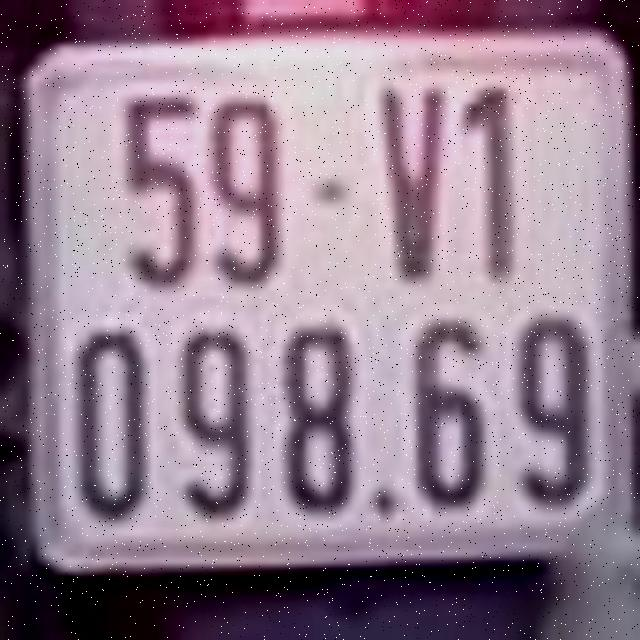0: (68, 317, 152, 522)
1: (458, 78, 525, 282)
5: (118, 88, 201, 289)
6: (411, 308, 490, 508)
8: (281, 314, 357, 515)
9: (512, 303, 596, 511), (178, 321, 252, 519), (209, 90, 283, 287)
V: (376, 73, 451, 284)
